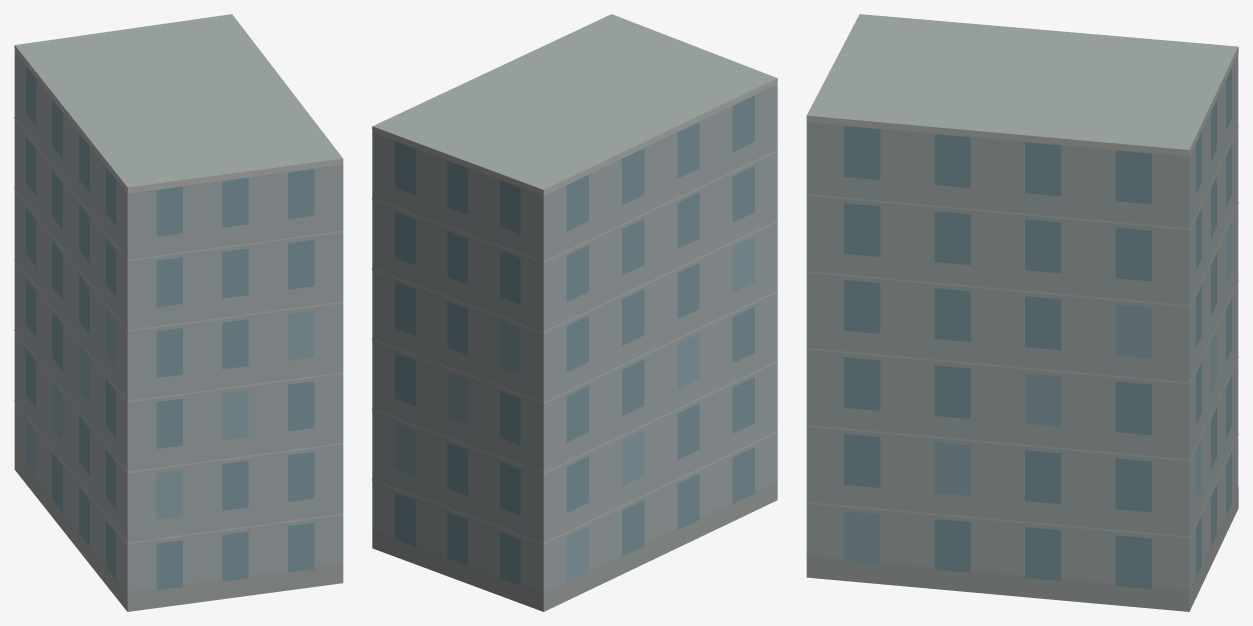
File: survey-upis-32947484.glb
3 renders of one model, left to right at view 1: azimuth 30°, elevation 25°; view 2: azimuth 150°, elevation 25°; view 3: azimuth 270°, elevation 25°, orthographic. The views are drawn at different scales.
Visible parts, largest first — view 1: survey-upis-32947484.tmp; view 2: survey-upis-32947484.tmp; view 3: survey-upis-32947484.tmp.
Part boxes in pixels (x1,y1,x2,y2): survey-upis-32947484.tmp: (14, 14, 343, 611); survey-upis-32947484.tmp: (372, 14, 777, 611); survey-upis-32947484.tmp: (806, 14, 1238, 611).
Bounding box in the file's own units: 10.82 × 17.1 × 14.51.
